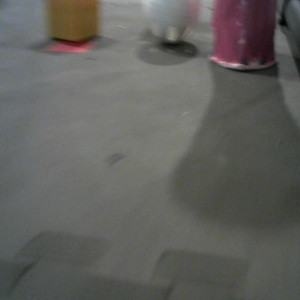right: (223, 1, 300, 73)
